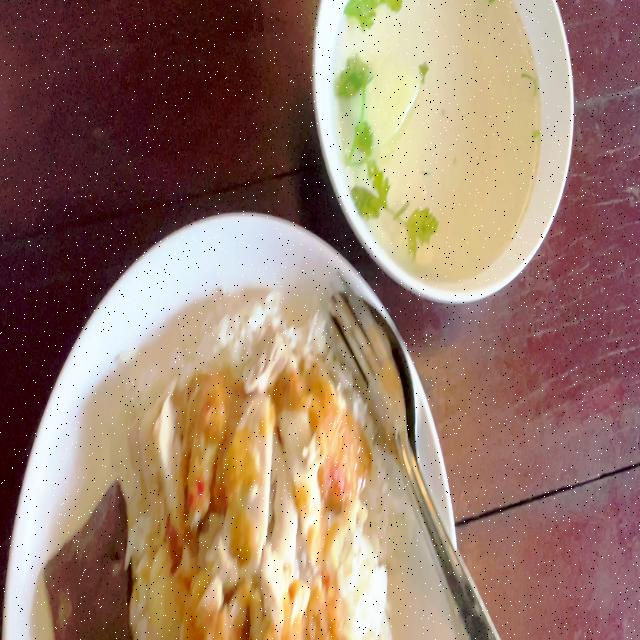chicken_rice: (36, 287, 404, 640), (156, 357, 348, 616)
